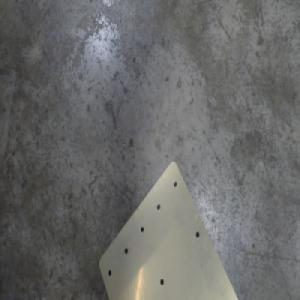MetalSheet: (97, 155, 243, 300)
